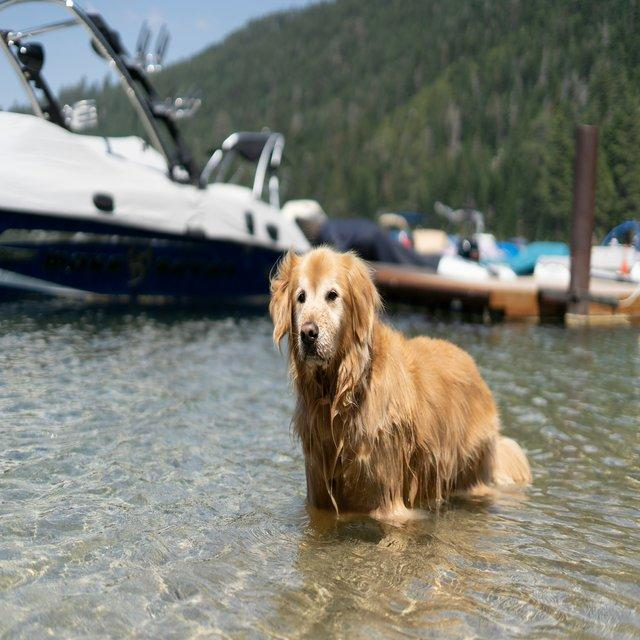retriever: (267, 244, 533, 523)
